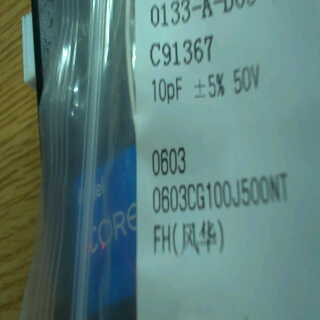10pF: (145, 71, 189, 108)
